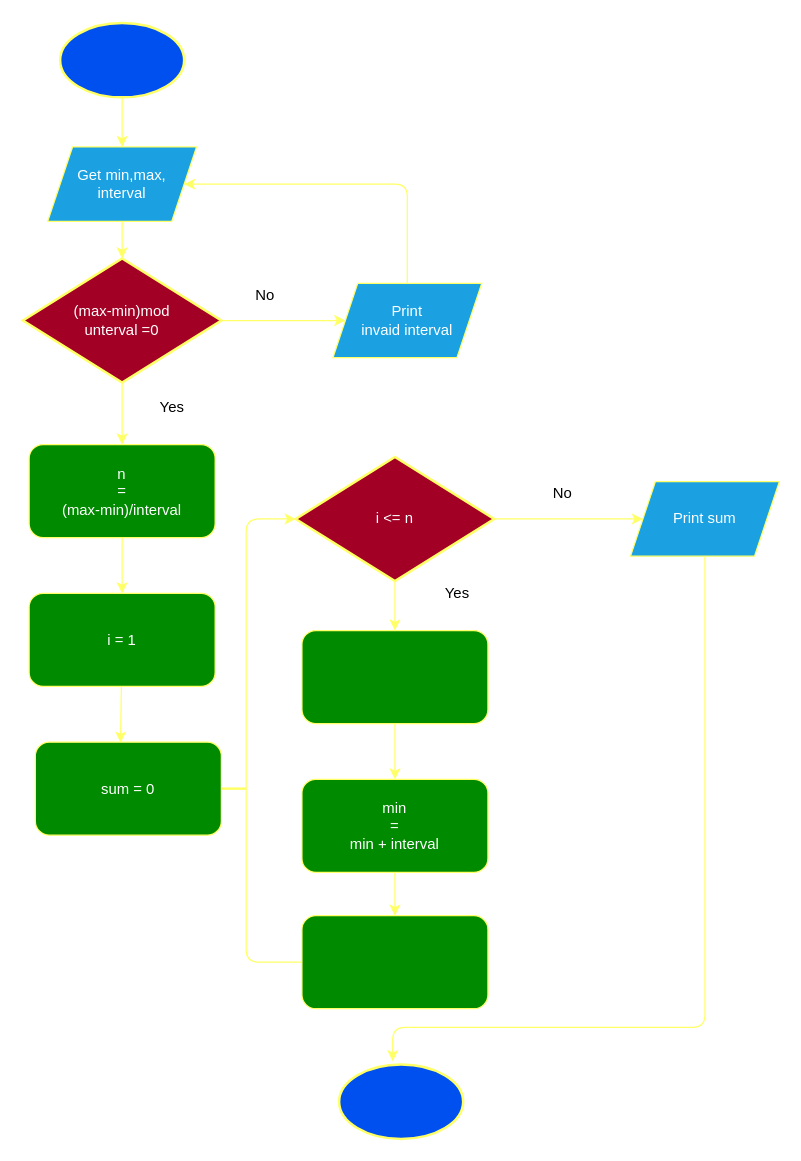
The diagram is 801 pixels wide and 1161 high, and some of its shapes have lost their labels. Here are the shapes that lost their labels. From the top down, the centre of each, then its label:
At (121,59): "Start".
At (394,676): "sum = sum + min".
At (394,961): "i = i + 1".
At (400,1101): "end".
